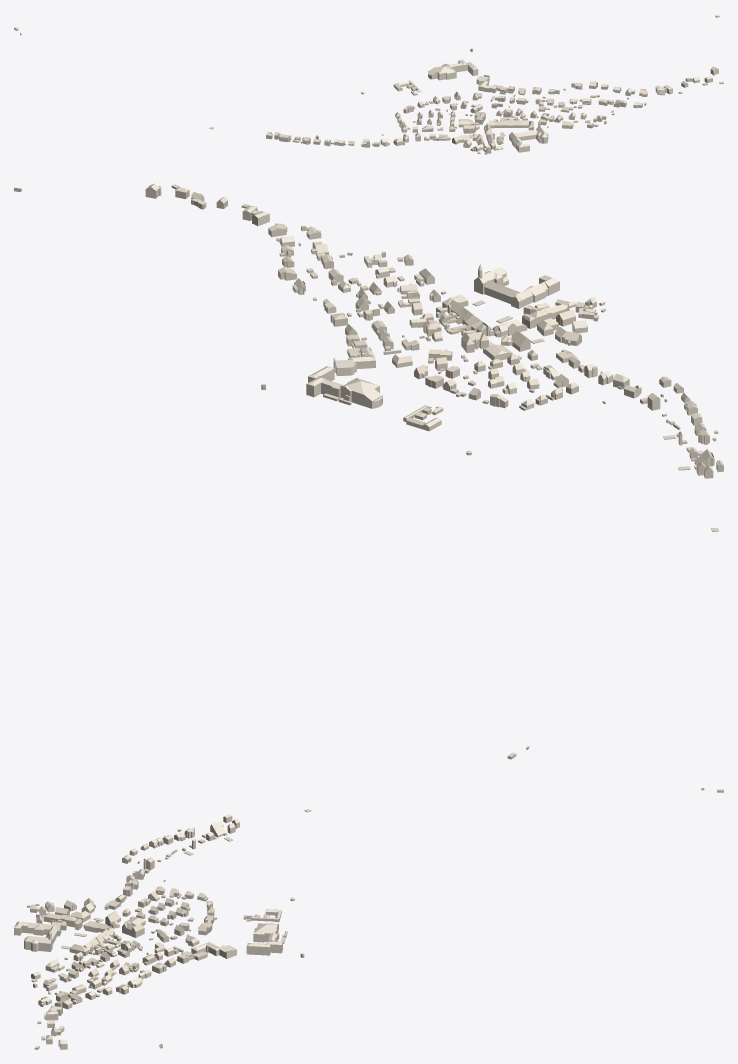
3 views of the same model, one above another, from view 1: azimuth 30°, elevation 25°; view 2: azimuth 150°, elevation 25°; view 3: azimuth 270°, elevation 25° (orthographic). The views are drawn at different scales.
Size of the model in its own units: 1190 by 113 by 1113.
